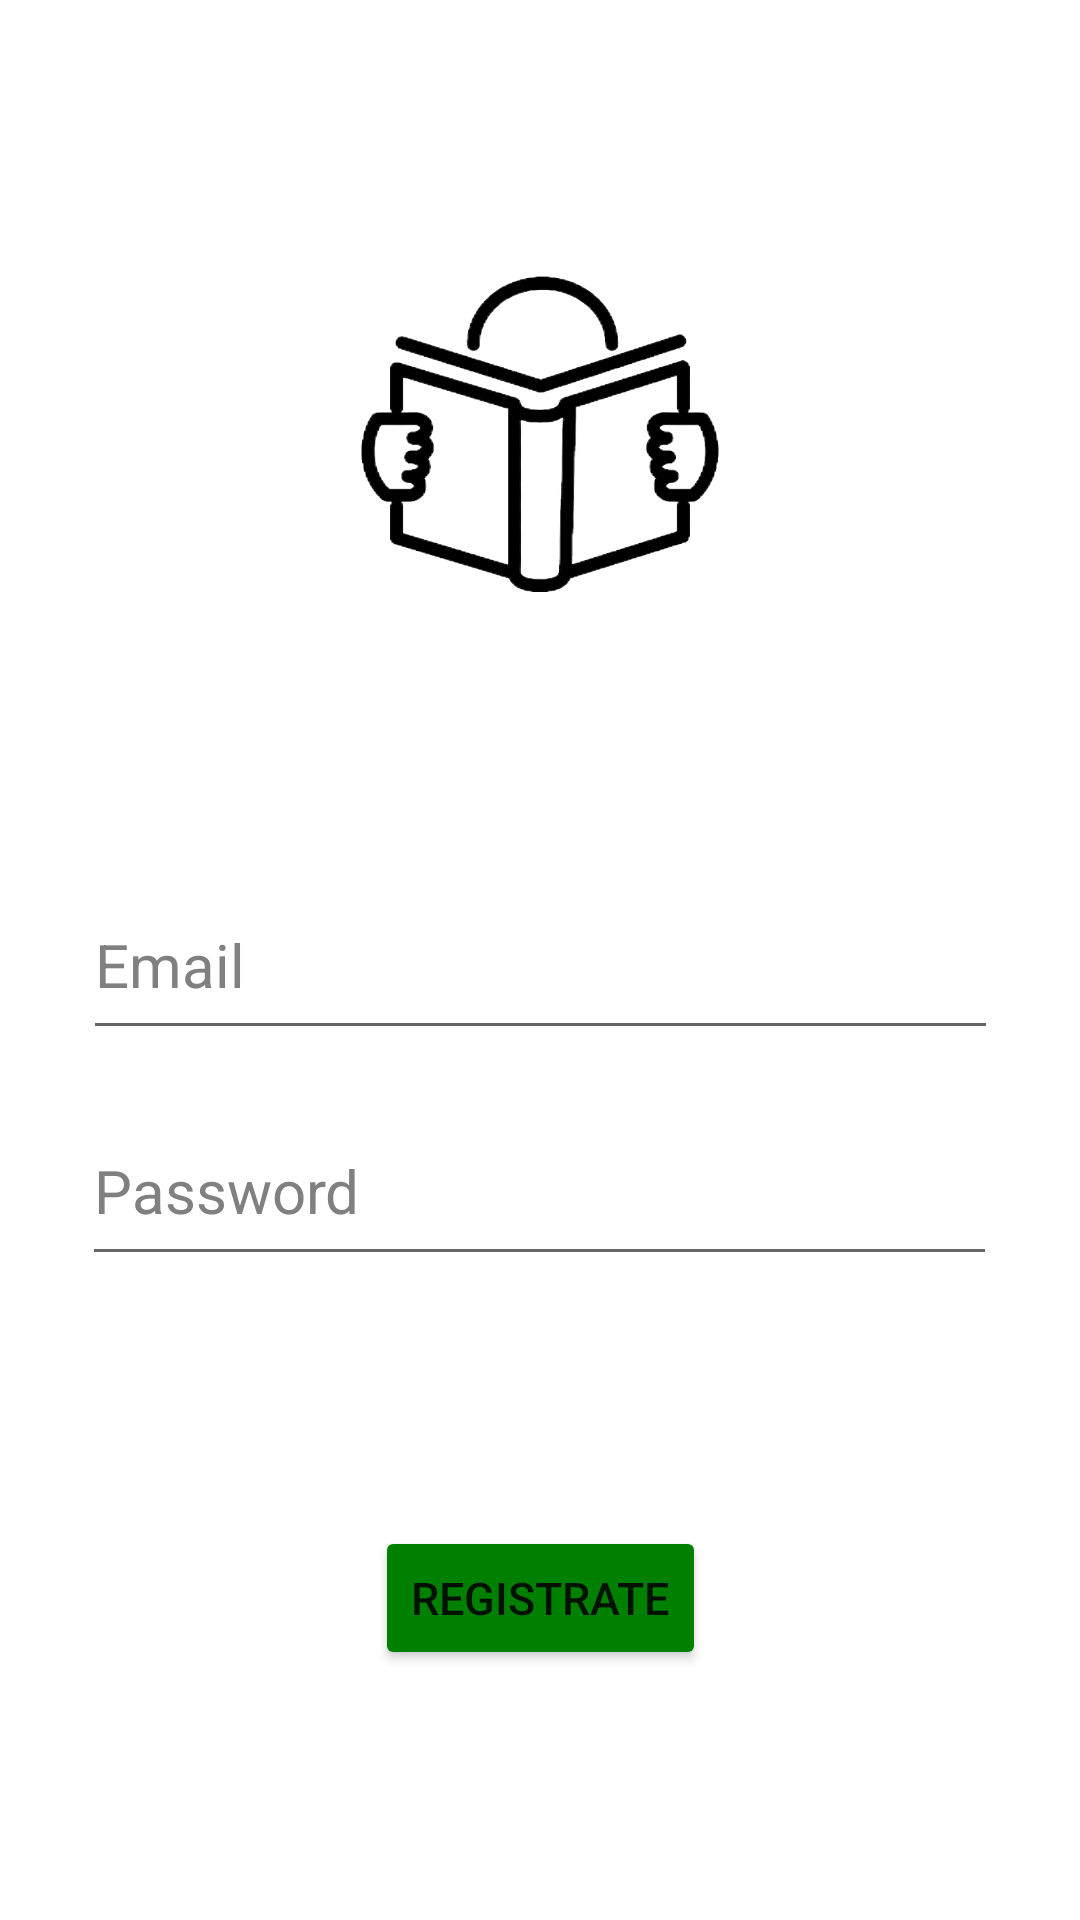

Locate icon controls on the screen. Image size 1080x1920, boxes as (x1, y1, x2, y2).
library: (361, 276, 719, 592)
